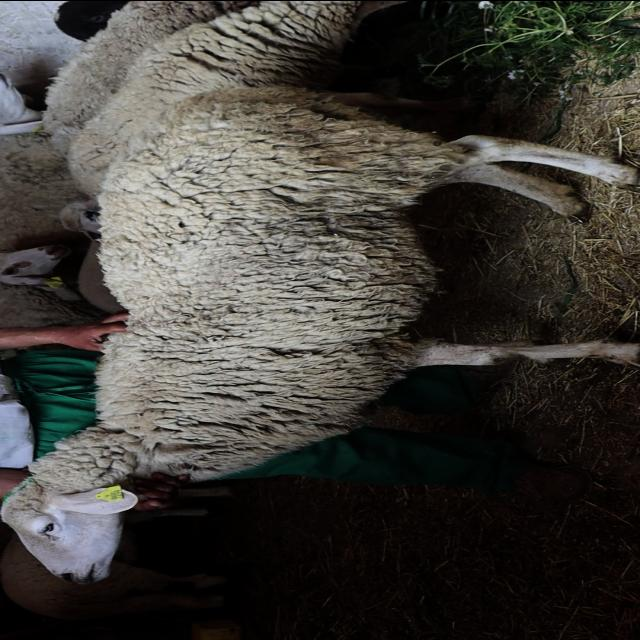Score_5: (1, 85, 637, 583)
